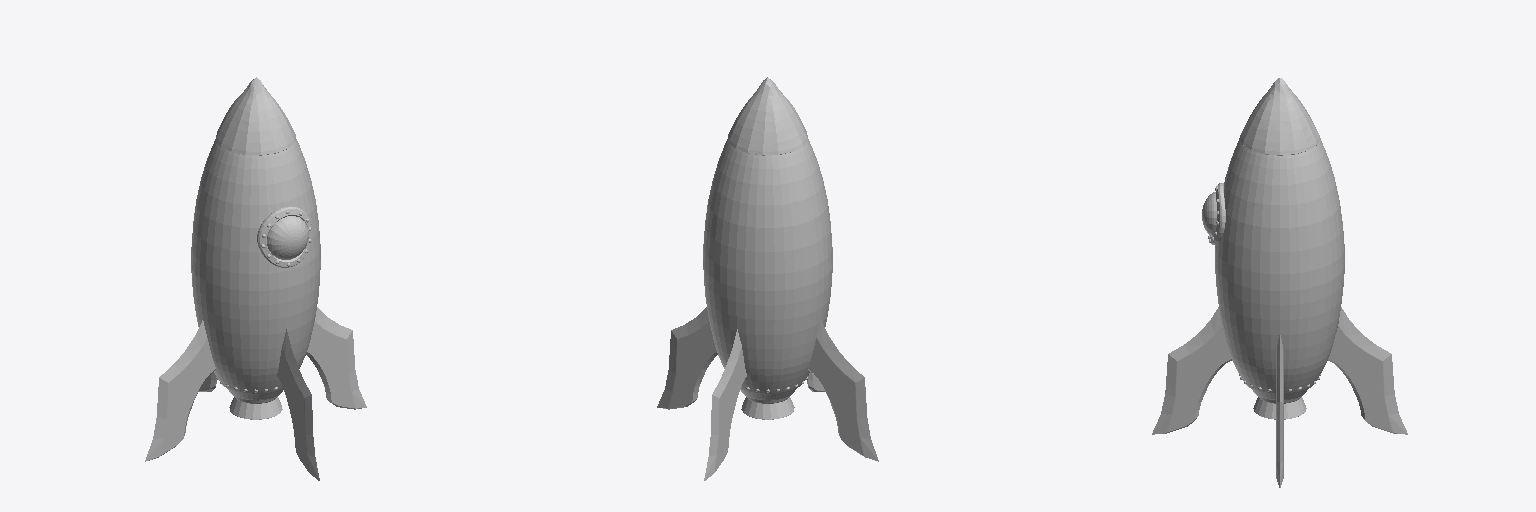
3 renders of one model, left to right at view 1: azimuth 30°, elevation 25°; view 2: azimuth 150°, elevation 25°; view 3: azimuth 270°, elevation 25°, orthographic.
Visible parts, largest first — view 1: naveespacial; view 2: naveespacial; view 3: naveespacial.
Part boxes in pixels (x1,y1,x2,y2): naveespacial: (145, 77, 366, 480); naveespacial: (657, 77, 878, 480); naveespacial: (1152, 78, 1407, 487).
Size of the model in its own units: 12.26 by 18.83 by 12.26.